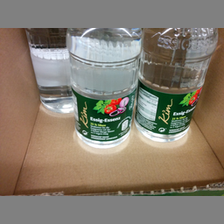vinegar: (66, 28, 145, 153), (135, 28, 217, 141)
